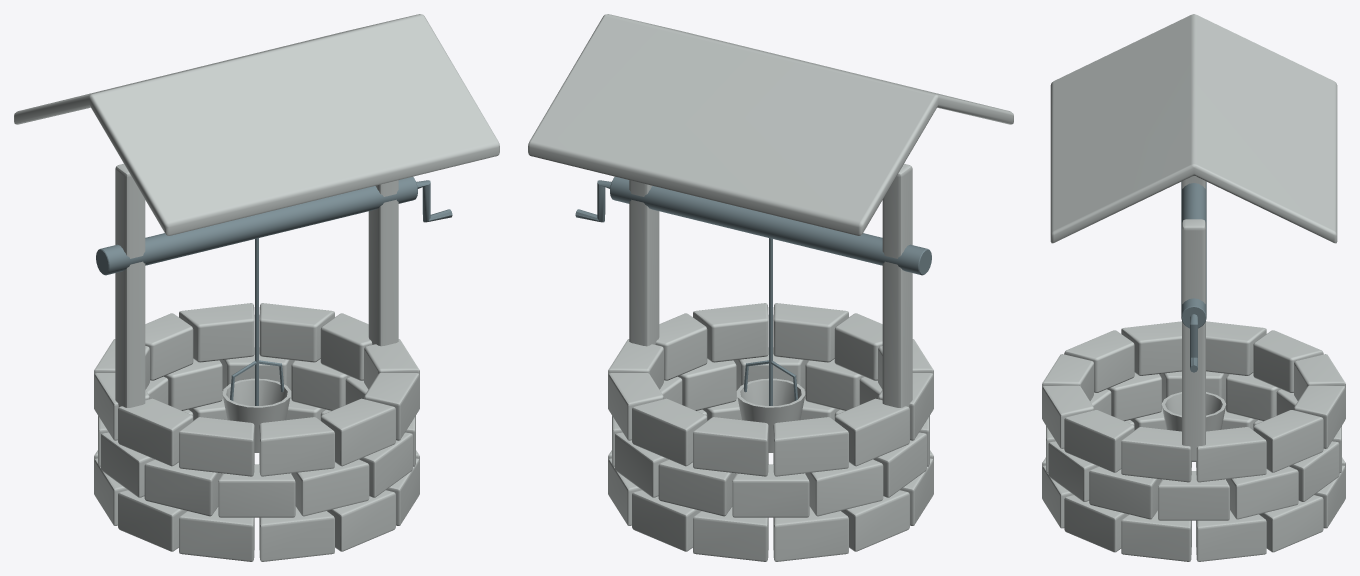
File: stone-well.glb
3 views of the same model, side by side, from view 1: azimuth 30°, elevation 25°; view 2: azimuth 150°, elevation 25°; view 3: azimuth 270°, elevation 25° (orthographic). The views are drawn at different scales.
Visible parts, largest first — view 1: pitched_roof, windlass, roof_post, roof_post.001, stone_block.026, stone_block.027, stone_block.032, stone_block.033, stone_block.025, stone_block.015, stone_block.028, stone_block.003 (+20 smaller); view 2: pitched_roof, windlass, roof_post, roof_post.001, stone_block.030, stone_block.031, stone_block.024, stone_block.025, stone_block.032, stone_block.019, stone_block.029, stone_block.007 (+20 smaller); view 3: pitched_roof, roof_post.001, stone_block.034, stone_block.035, stone_block.024, stone_block.033, stone_block.023, stone_block, stone_block.011, stone_block.012, stone_block.022, stone_block.028 (+23 smaller).
Part boxes in pixels (bbox=[...]): pitched_roof: bbox=[14, 14, 499, 235]; windlass: bbox=[96, 176, 417, 275]; roof_post: bbox=[115, 163, 145, 407]; roof_post.001: bbox=[368, 180, 398, 346]; stone_block.026: bbox=[259, 417, 334, 476]; stone_block.027: bbox=[179, 417, 254, 476]; stone_block.032: bbox=[179, 303, 254, 362]; stone_block.033: bbox=[259, 303, 334, 362]; stone_block.025: bbox=[320, 398, 395, 466]; stone_block.015: bbox=[218, 464, 295, 517]; stone_block.028: bbox=[118, 398, 193, 466]; stone_block.003: bbox=[259, 507, 334, 561]; pitched_roof: bbox=[528, 14, 1013, 235]; windlass: bbox=[610, 176, 931, 275]; roof_post: bbox=[882, 163, 912, 407]; roof_post.001: bbox=[629, 180, 659, 346]; stone_block.030: bbox=[773, 417, 848, 476]; stone_block.031: bbox=[693, 417, 768, 476]; stone_block.024: bbox=[693, 303, 768, 362]; stone_block.025: bbox=[773, 303, 848, 362]; stone_block.032: bbox=[632, 398, 707, 466]; stone_block.019: bbox=[732, 464, 809, 517]; stone_block.029: bbox=[834, 398, 909, 466]; stone_block.007: bbox=[773, 507, 848, 561]; pitched_roof: bbox=[1050, 14, 1337, 243]; roof_post.001: bbox=[1182, 219, 1205, 461]; stone_block.034: bbox=[1196, 427, 1266, 482]; stone_block.035: bbox=[1121, 427, 1191, 482]; stone_block.024: bbox=[1064, 410, 1134, 472]; stone_block.033: bbox=[1253, 410, 1323, 472]; stone_block.023: bbox=[1158, 471, 1229, 520]; stone_block: bbox=[1121, 510, 1191, 561]; stone_block.011: bbox=[1196, 510, 1266, 561]; stone_block.012: bbox=[1089, 466, 1161, 519]; stone_block.022: bbox=[1226, 466, 1298, 519]; stone_block.028: bbox=[1121, 321, 1181, 375].
Bounding box in the file's own units: 1.68 × 1.96 × 1.31.
